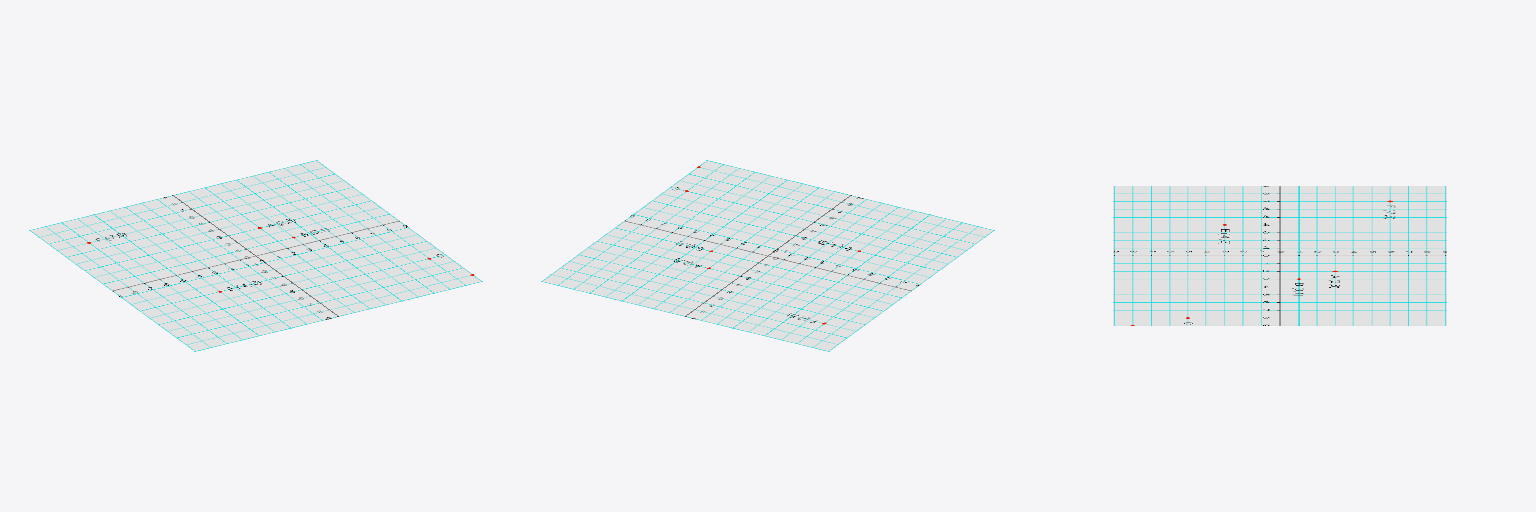
3 views of the same model, side by side, from view 1: azimuth 30°, elevation 25°; view 2: azimuth 150°, elevation 25°; view 3: azimuth 270°, elevation 25° (orthographic).
Parts seen in each view (by area): view 1: Plane; view 2: Plane; view 3: Plane.
Part boxes in pixels (bbox=[...]): Plane: bbox=[29, 160, 482, 351]; Plane: bbox=[541, 160, 994, 351]; Plane: bbox=[1113, 186, 1446, 325].
Bounding box in the file's own units: 8 × 0 × 8.
1 materials, 1 textured.